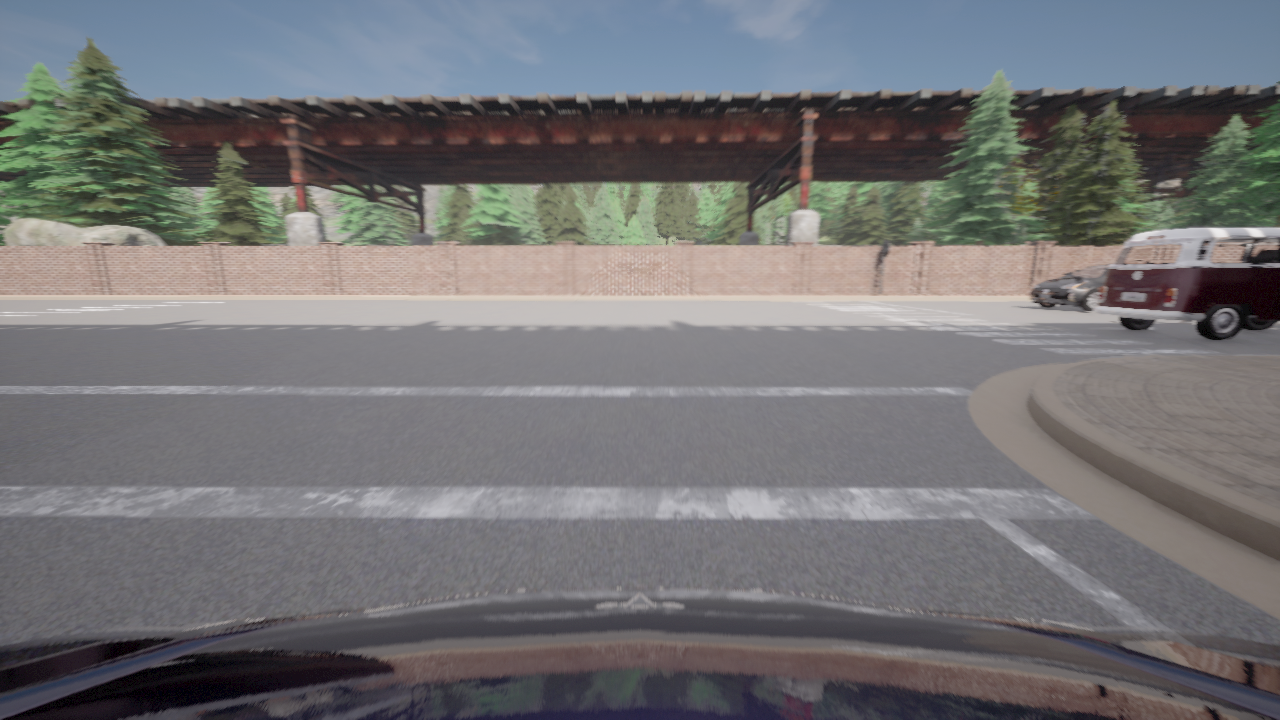cyclist: (0, 588, 1279, 719), (1094, 227, 1279, 340), (1030, 263, 1112, 311)
